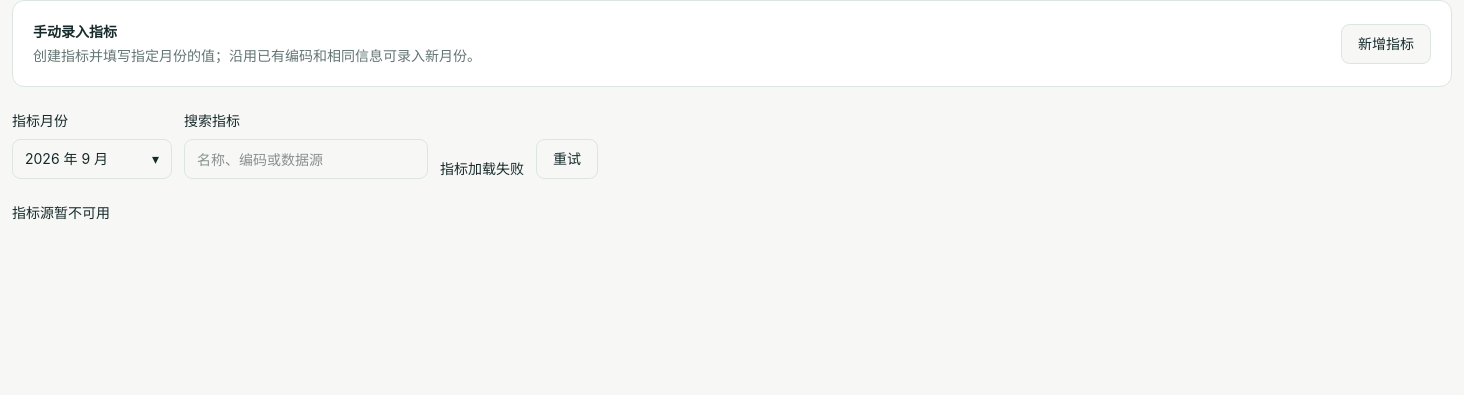
Scenario: metric manager month loading › offers retry after an automatic load fails
Expected: the text "指标源暂不可用" is shown, [12,204,110,221]
What coordinates should you click on to do the following:
click the button "重试"
I would click on:
 (567, 159)
Its box is [536,139,598,179].
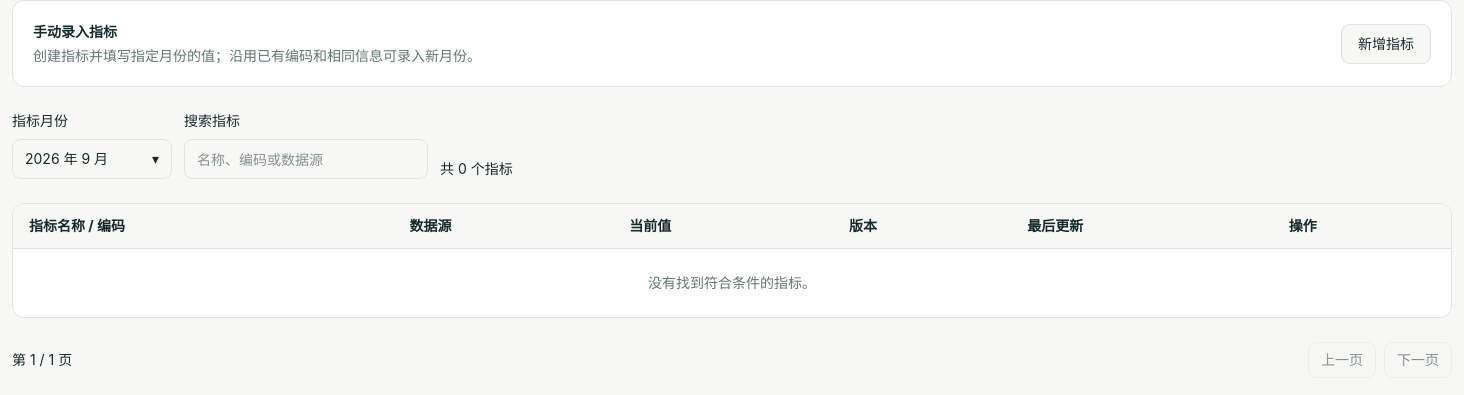
Expected: the text "共 0 个指标" is shown, [440,159,513,179]
